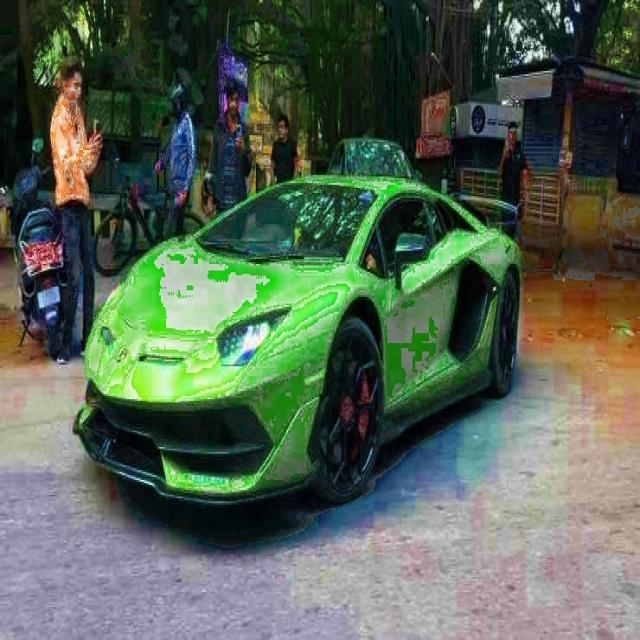green: (84, 176, 527, 512)
